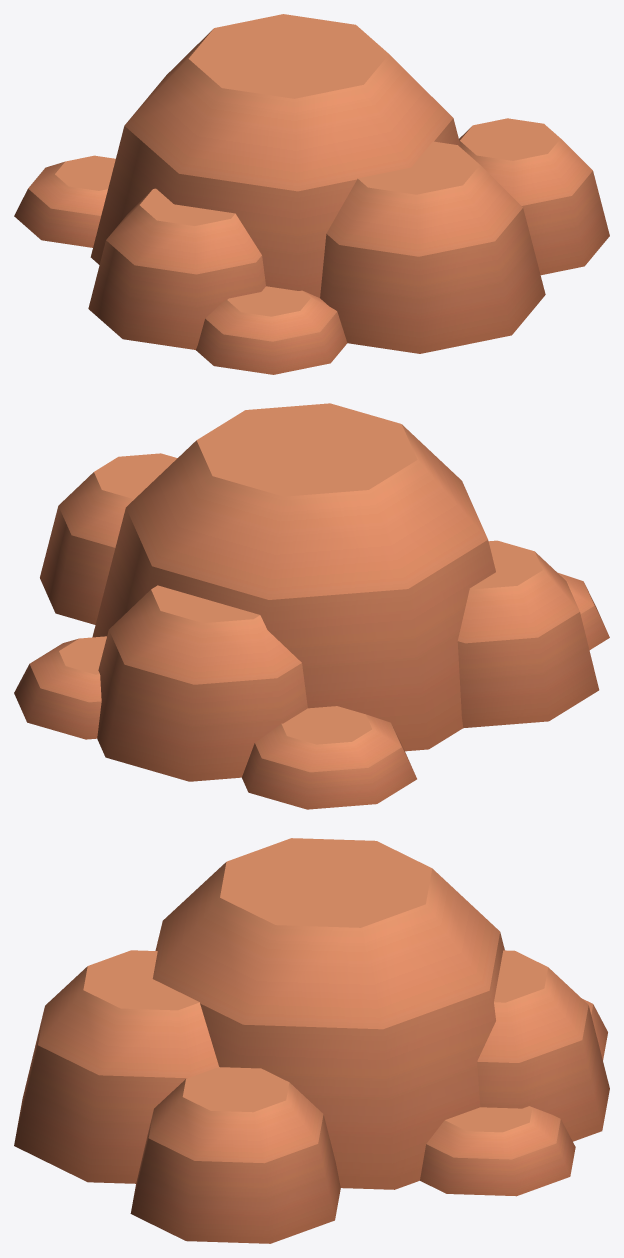
File: cargo-pile-b-transformed-transformed.glb
The picture shows the model from 3 angles, top to bottom: view 1: azimuth 30°, elevation 25°; view 2: azimuth 150°, elevation 25°; view 3: azimuth 270°, elevation 25°; orthographic projection. The views are drawn at different scales.
Visible parts, largest first — view 1: cargo-pile-b; view 2: cargo-pile-b; view 3: cargo-pile-b.
Boxes of the visible parts, box(x1,y1,x2,y2) form: cargo-pile-b: box(14, 14, 609, 374); cargo-pile-b: box(14, 403, 609, 809); cargo-pile-b: box(14, 838, 609, 1243).
Bounding box in the file's own units: 3.05 × 1.2 × 2.97.
1 material, 1 textured.
